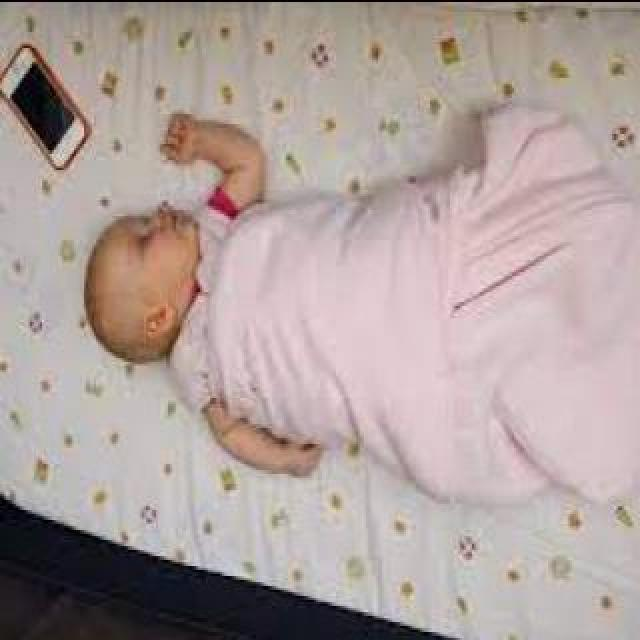baby: (83, 114, 549, 516)
